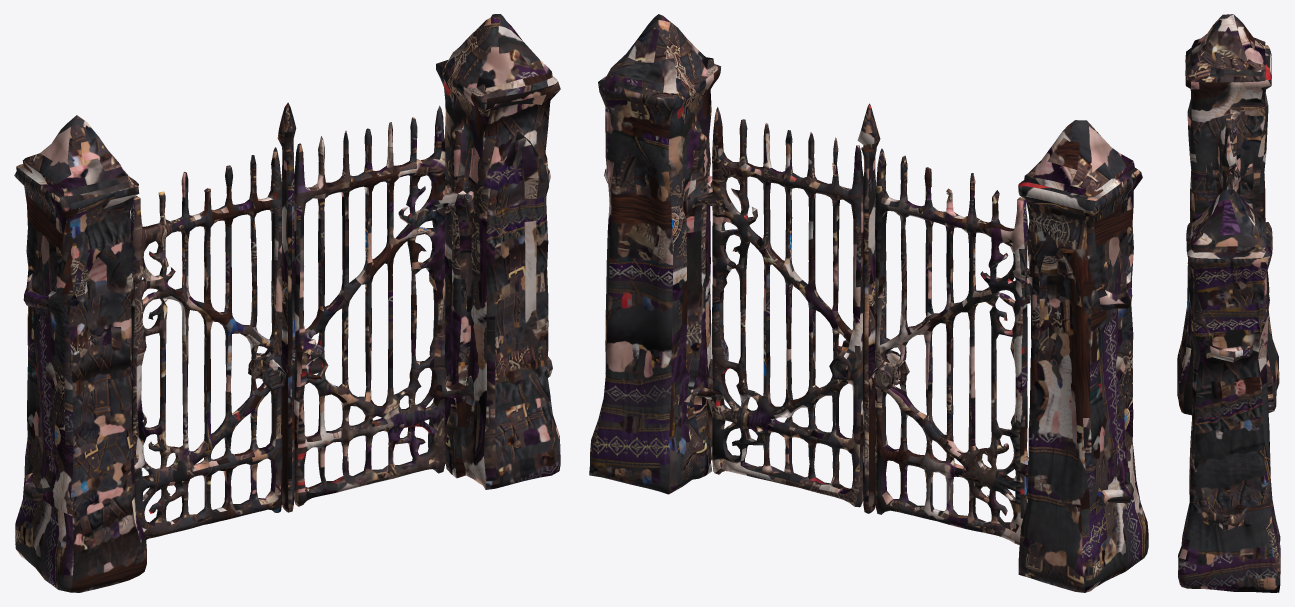
3 renders of one model, left to right at view 1: azimuth 30°, elevation 25°; view 2: azimuth 150°, elevation 25°; view 3: azimuth 270°, elevation 25°, orthographic. The views are drawn at different scales.
Visible parts, largest first — view 1: tripo_node_5c3dd3d1; view 2: tripo_node_5c3dd3d1; view 3: tripo_node_5c3dd3d1.
Boxes of the visible parts, bbox=[...] form: tripo_node_5c3dd3d1: bbox=[14, 14, 560, 592]; tripo_node_5c3dd3d1: bbox=[589, 14, 1148, 592]; tripo_node_5c3dd3d1: bbox=[1177, 14, 1280, 592].
Size of the model in its own units: 0.9763 by 0.7984 by 0.1933.
